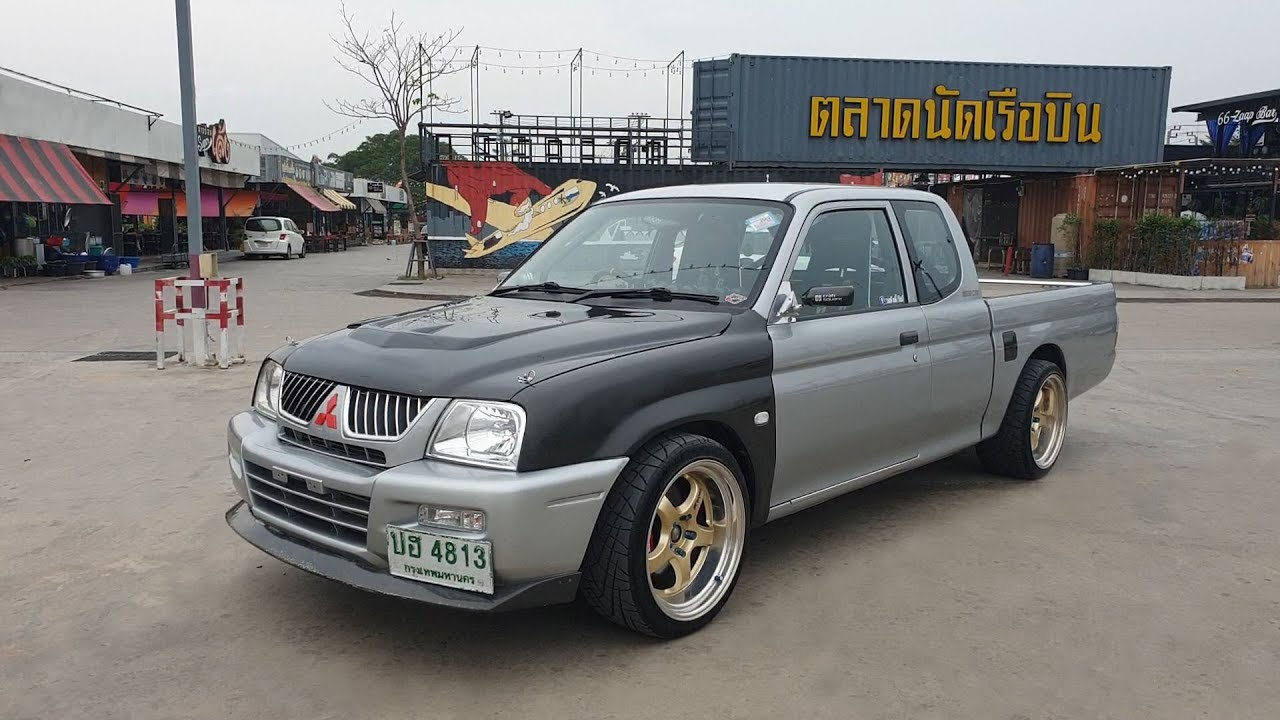pickup: (223, 181, 1127, 643)
